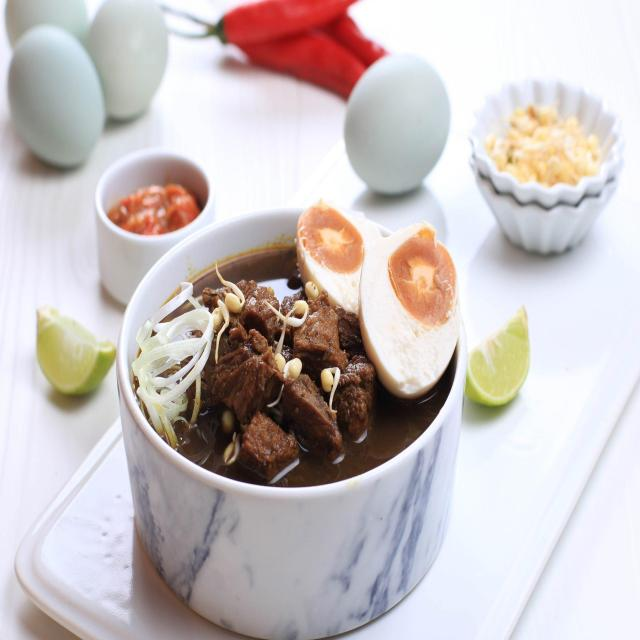Rawon: (162, 240, 418, 472)
